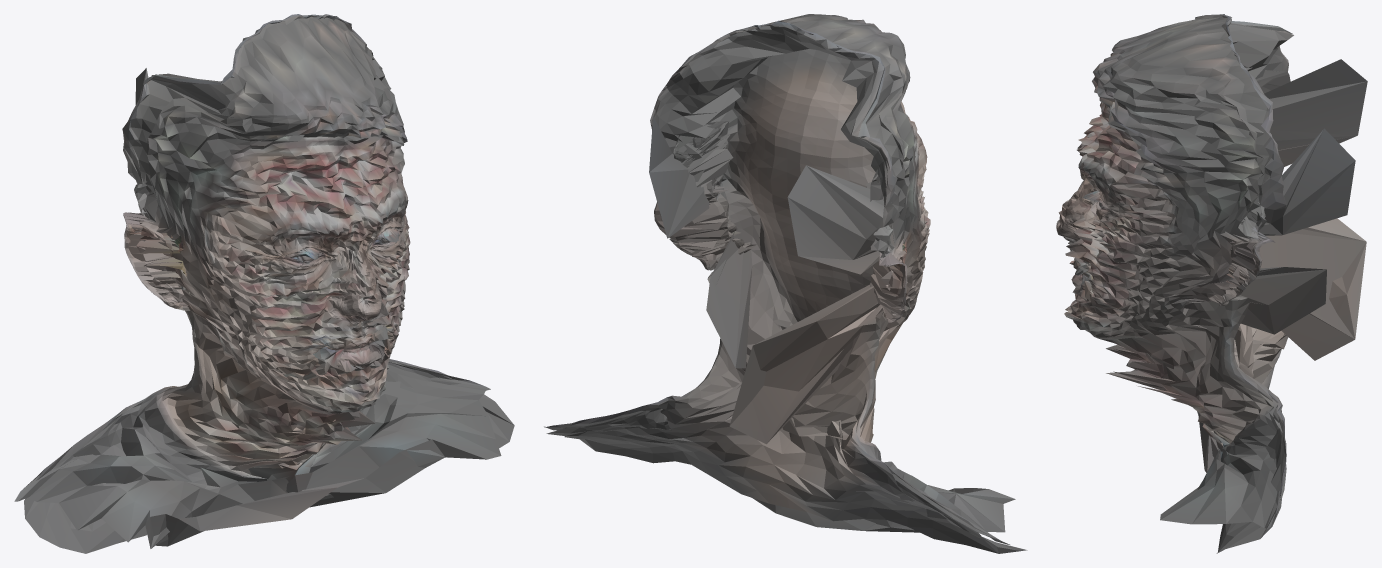
The model's file is asian_m_textured_mesh_display.obj.
3 renders of one model, left to right at view 1: azimuth 30°, elevation 25°; view 2: azimuth 150°, elevation 25°; view 3: azimuth 270°, elevation 25°, orthographic. The views are drawn at different scales.
Size of the model in its own units: 0.3661 by 0.3668 by 0.2274.
